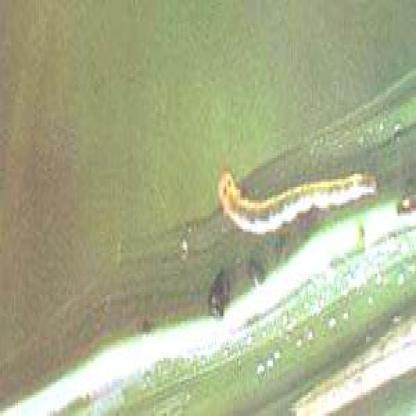leaf-folder: (215, 150, 385, 242)
